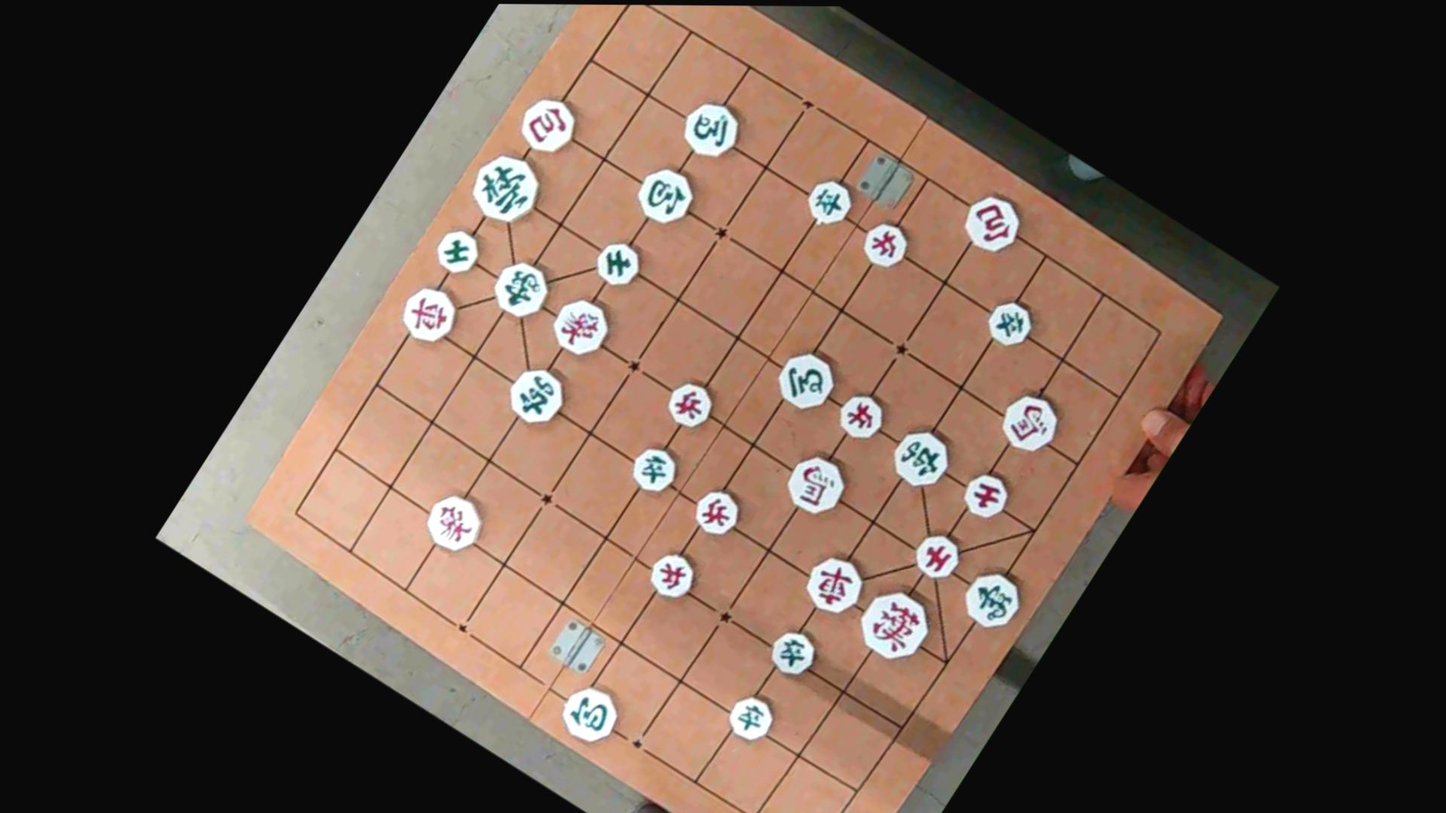cha_green: (886, 420, 959, 495), (501, 362, 569, 430)
cha_red: (392, 276, 465, 351), (799, 546, 872, 621)
jol_green: (762, 621, 825, 685), (622, 438, 682, 501), (801, 172, 859, 233), (981, 293, 1039, 352), (722, 690, 779, 747)
jol_red: (685, 480, 747, 544), (642, 543, 702, 606), (833, 385, 892, 446), (661, 373, 720, 433), (856, 214, 914, 275)
ma_green: (767, 343, 842, 419), (674, 92, 749, 166)
ma_red: (994, 383, 1067, 459), (777, 445, 850, 521)
po_green: (554, 676, 627, 751), (631, 159, 701, 231)
po_red: (957, 184, 1031, 260), (511, 87, 584, 164)
sa_green: (587, 232, 647, 293), (429, 220, 487, 282)
sa_red: (955, 467, 1015, 528), (906, 524, 965, 586)
sang_green: (955, 561, 1028, 635), (484, 254, 554, 323)
sang_red: (542, 288, 618, 364), (416, 484, 490, 559)
wang_green: (462, 143, 553, 235)
wang_red: (849, 580, 940, 671)
